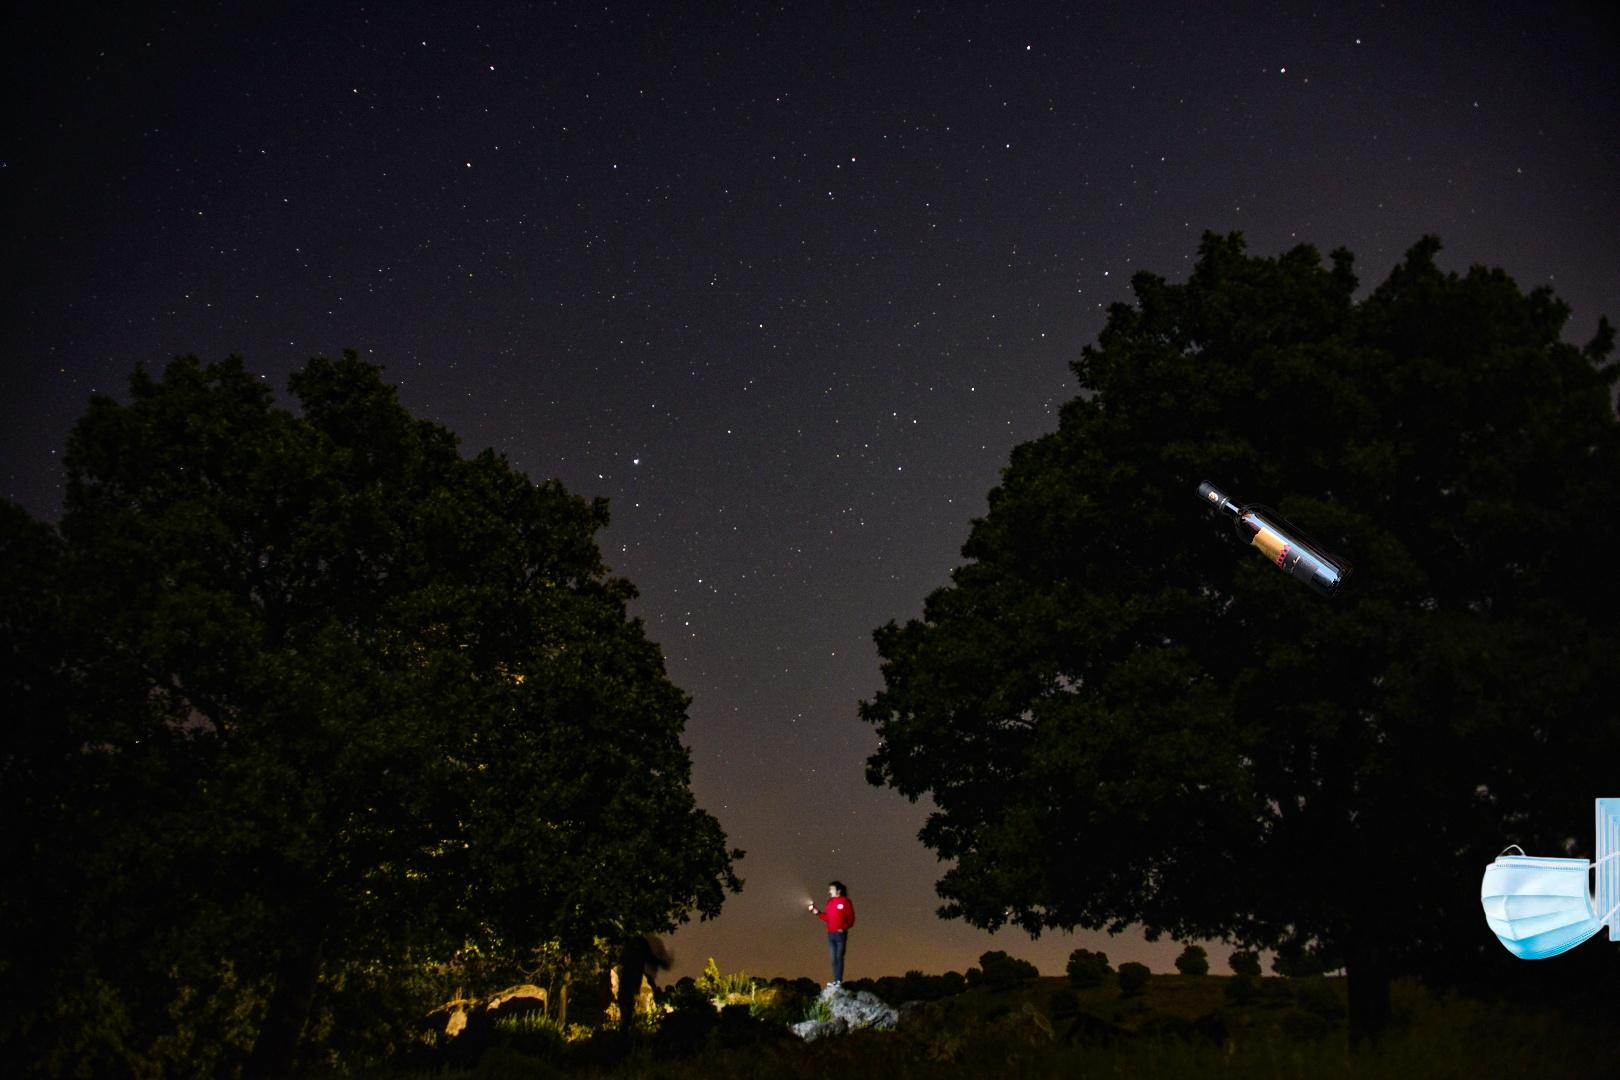glass: (1063, 230, 1356, 604)
trash: (1478, 796, 1620, 963)
